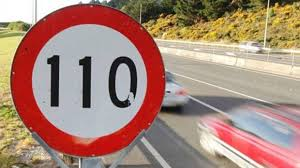Speed_limit_110km: (9, 3, 166, 159)
